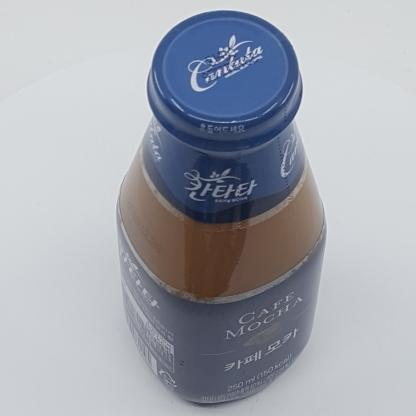------------250ML: (116, 11, 327, 404)
